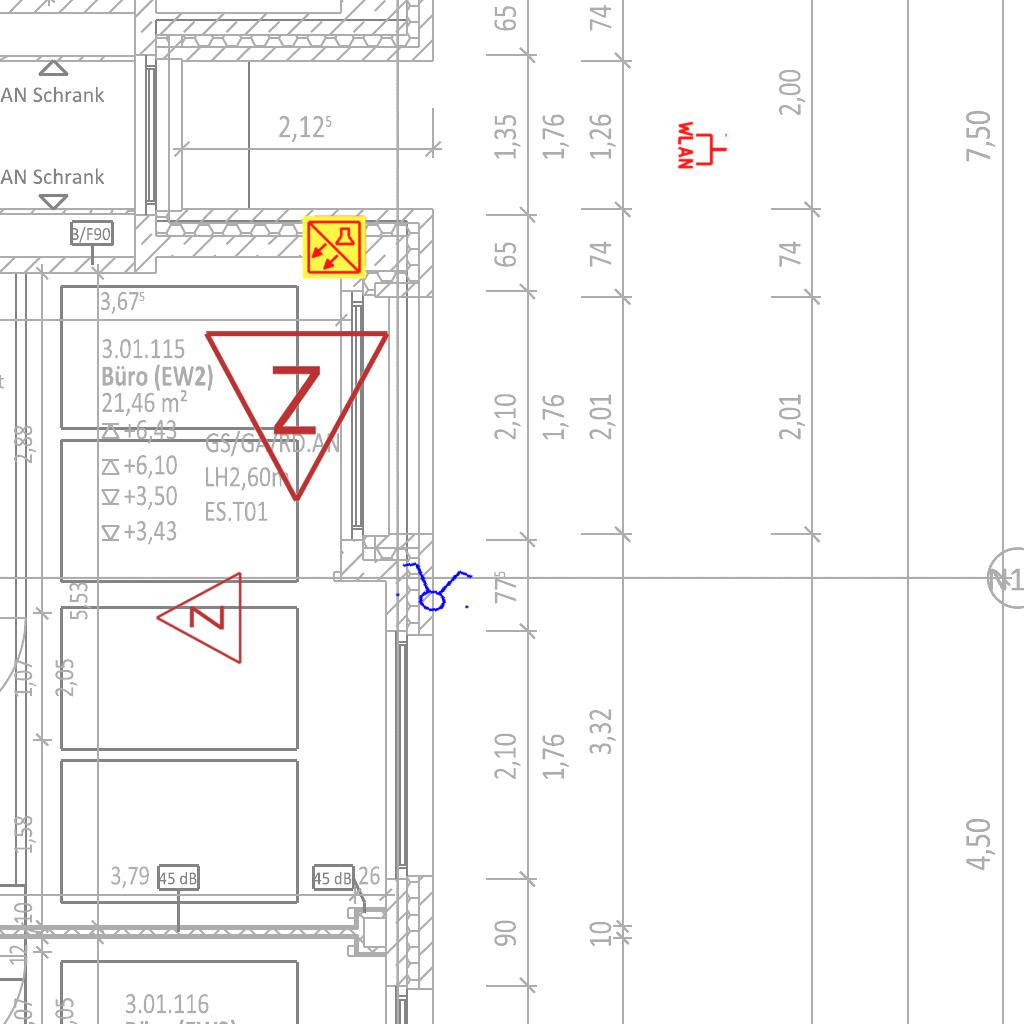OKW_Multisensormelder_(Kombination_optischer_Rauch-Kahlenmonoxid_Waerme-Melder): (301, 214, 367, 280)
Serienschalter: (388, 557, 480, 619)
WLAN: (677, 119, 729, 171)
Zimmersignalleuchte: (201, 316, 397, 516), (149, 570, 249, 668)
